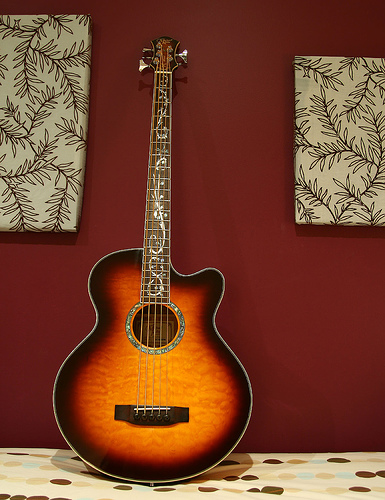guitar: (48, 35, 255, 484)
